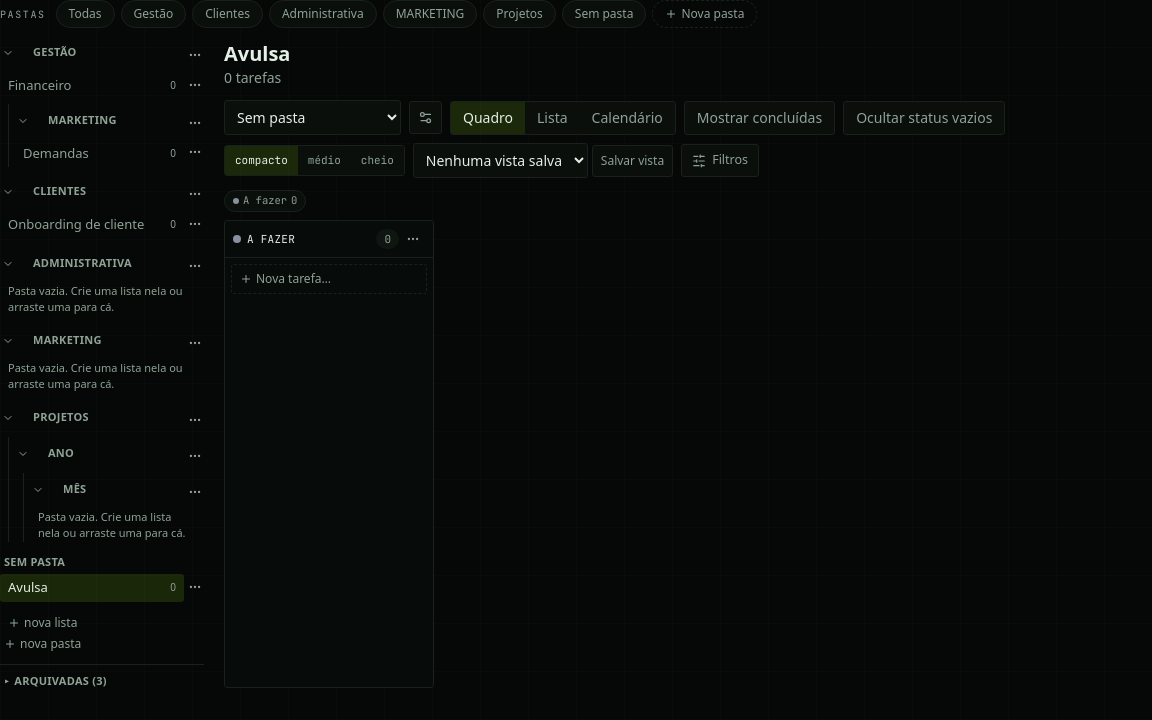
Test: M3: a seção Arquivadas › a recusa da API (nome repetido) aparece na seção
Click the button with test id "trabalho-arquivadas-alternar" at (102, 681), box [0,672,204,689]
(page scrolled)
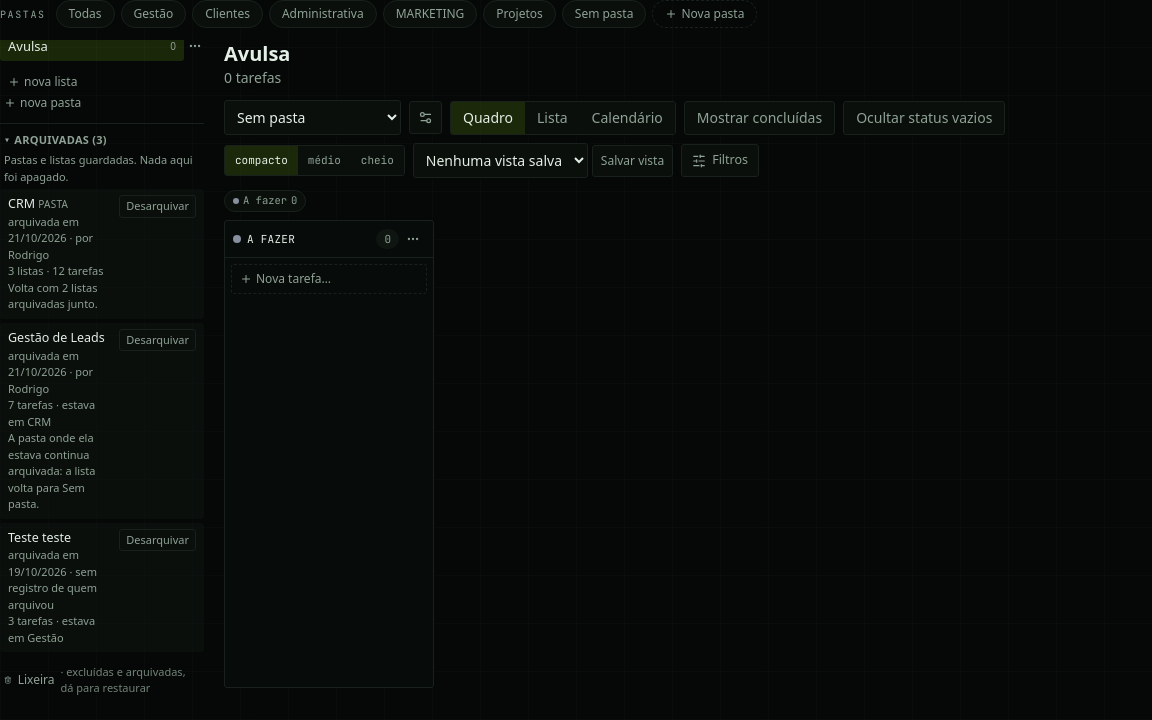
Click the button with test id "trabalho-desarquivar-lista-l-teste" at (158, 540), box [119,528,196,551]
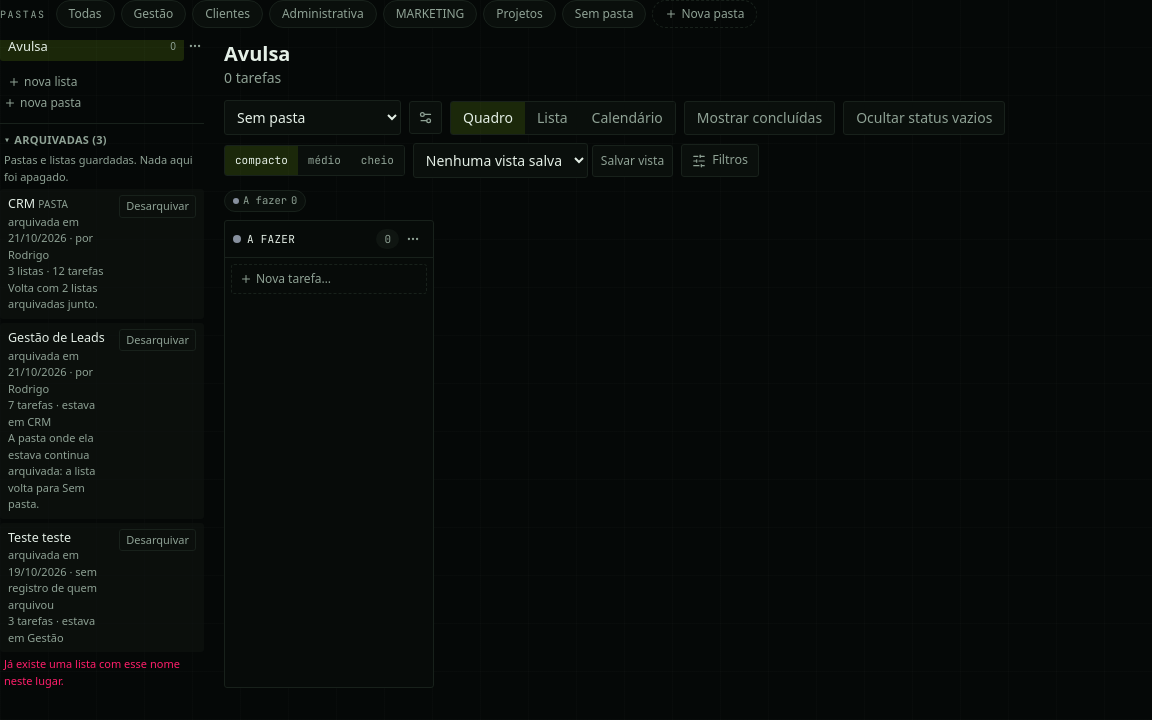
Expected: the message with test id "trabalho-arquivadas-erro" reads "Já existe uma lista com esse nome neste lugar.", [4,656,180,688]
